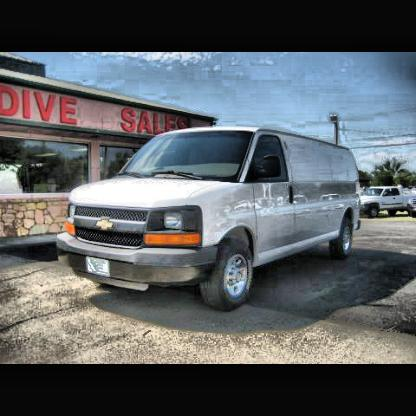Chevrolet Express Van 2007: (58, 125, 365, 317)
